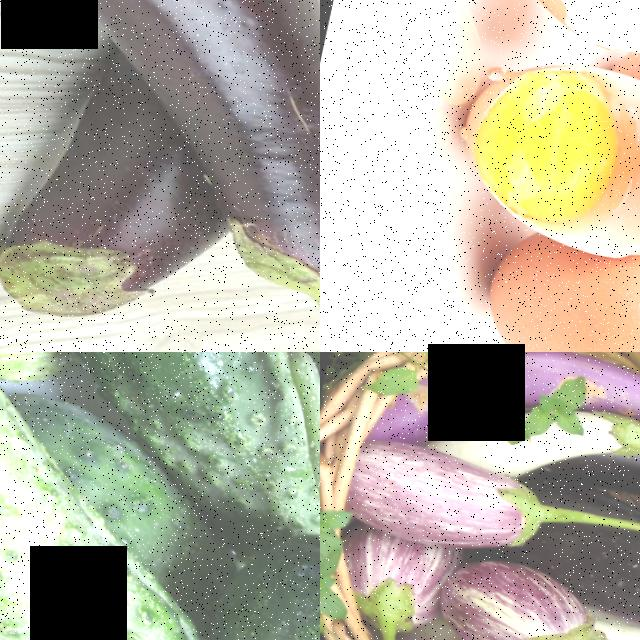cucumber: (0, 447, 240, 640), (44, 352, 320, 473), (176, 497, 320, 640)
egg_: (456, 36, 640, 238), (462, 216, 640, 352)
eggplant: (0, 77, 224, 352), (184, 26, 320, 310), (0, 0, 320, 96), (343, 426, 554, 568), (536, 478, 640, 640), (438, 542, 609, 640), (338, 521, 458, 636)
